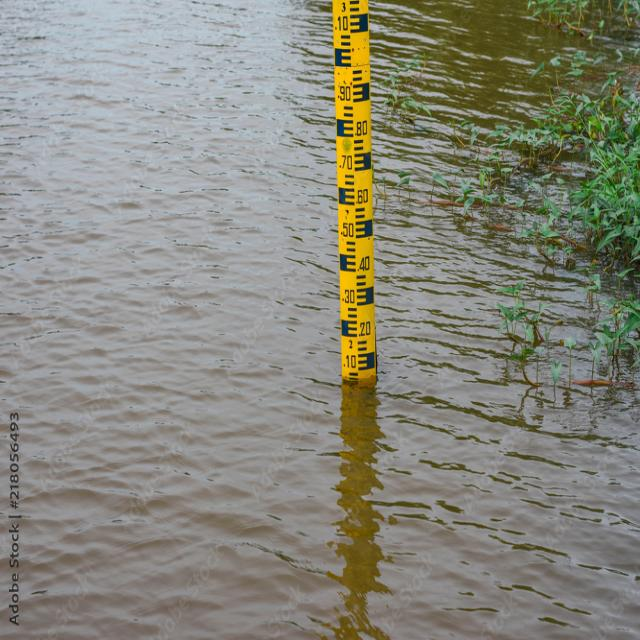ruler: (320, 0, 394, 400)
value: (356, 252, 374, 275), (340, 284, 358, 306), (338, 218, 355, 240), (336, 82, 353, 103), (338, 151, 354, 173), (353, 117, 369, 138), (333, 15, 350, 33), (355, 186, 370, 206), (342, 353, 357, 370), (358, 320, 372, 338), (340, 0, 347, 15), (348, 338, 353, 350)
